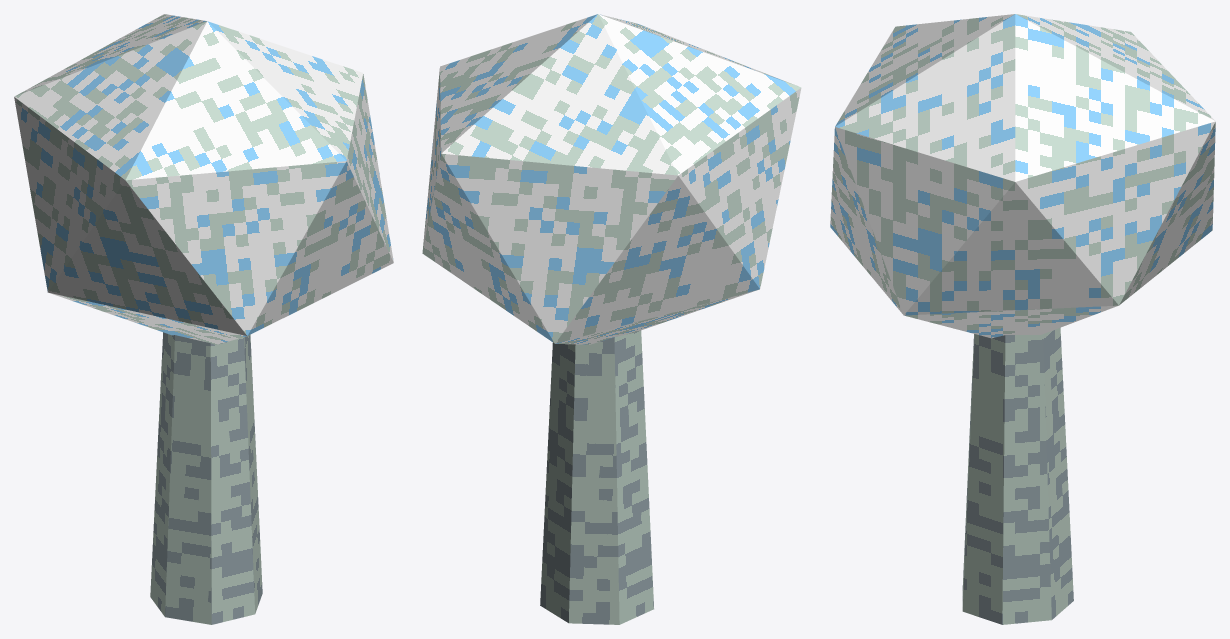
Rendered from r09_madeira_nuvem.glb.
3 views of the same model, side by side, from view 1: azimuth 30°, elevation 25°; view 2: azimuth 150°, elevation 25°; view 3: azimuth 270°, elevation 25° (orthographic).
Parts seen in each view (by area): view 1: r09_madeira_nuvem; view 2: r09_madeira_nuvem; view 3: r09_madeira_nuvem.
Part boxes in pixels (bbox=[...]): r09_madeira_nuvem: bbox=[14, 14, 393, 624]; r09_madeira_nuvem: bbox=[422, 14, 801, 624]; r09_madeira_nuvem: bbox=[830, 14, 1215, 624].
Size of the model in its own units: 1.89 by 3.32 by 1.98.
2 materials, 2 textured.
